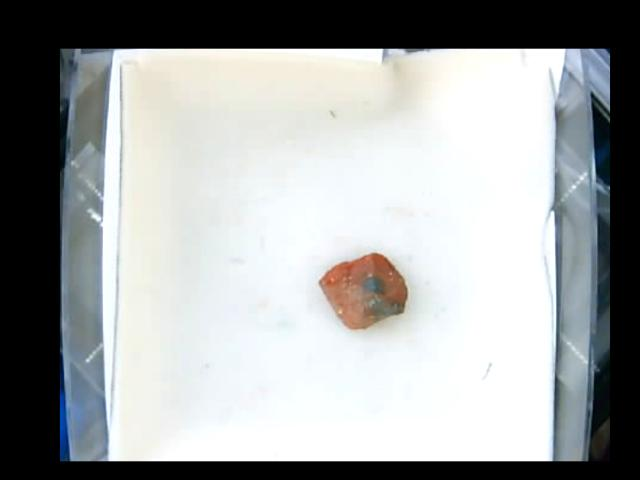Brisk: (317, 248, 409, 328)
